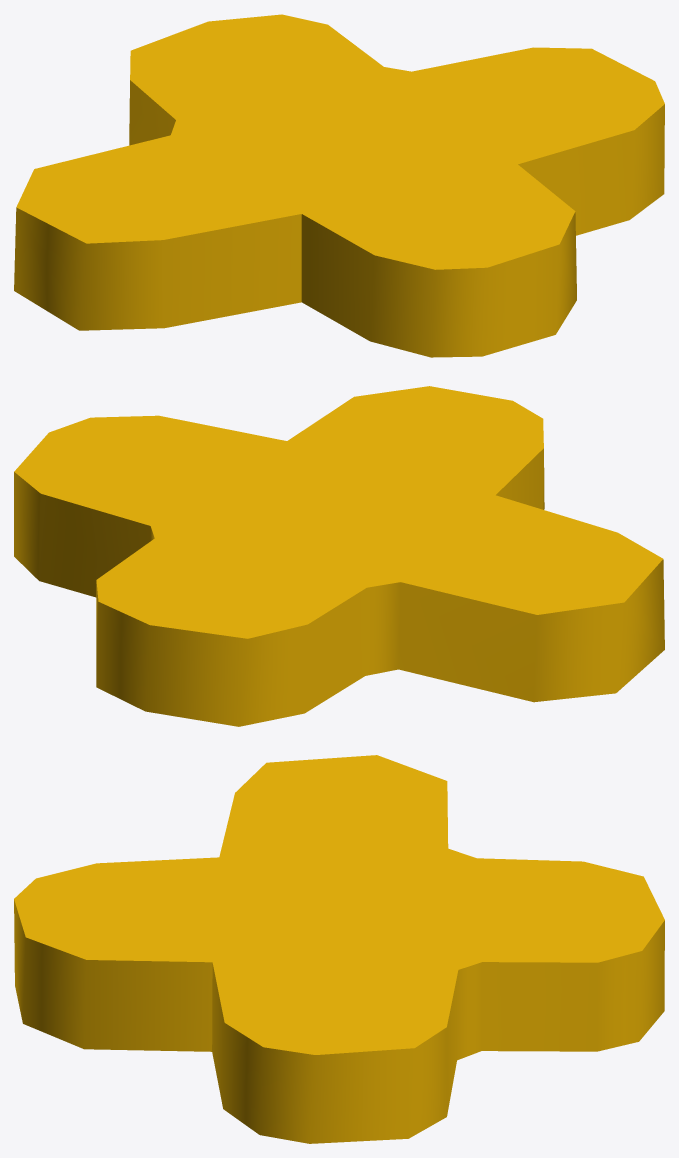
The model's file is Plus.fbx.
The picture shows the model from 3 angles, top to bottom: view 1: azimuth 30°, elevation 25°; view 2: azimuth 150°, elevation 25°; view 3: azimuth 270°, elevation 25°; orthographic projection.
Parts seen in each view (by area): view 1: Plus; view 2: Plus; view 3: Plus.
Boxes of the visible parts, x1=… form: Plus: x1=14, y1=14, x2=664, y2=357; Plus: x1=14, y1=386, x2=664, y2=726; Plus: x1=14, y1=755, x2=664, y2=1143.
Size of the model in its own units: 0.2369 by 0.0328 by 0.2172.
